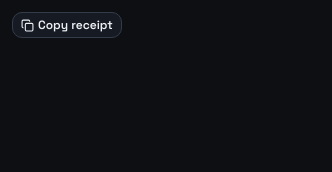
it: CopyButton › falls back to execCommand when navigator.clipboard rejects
This screenshot has width=332, height=172.
Click the button "Copy receipt": (67, 25) [12,12,122,38]
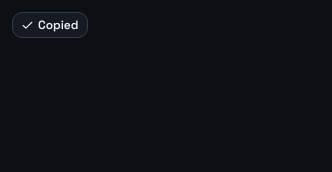
expect the button reads "Copied": met, box [12,12,88,38]
